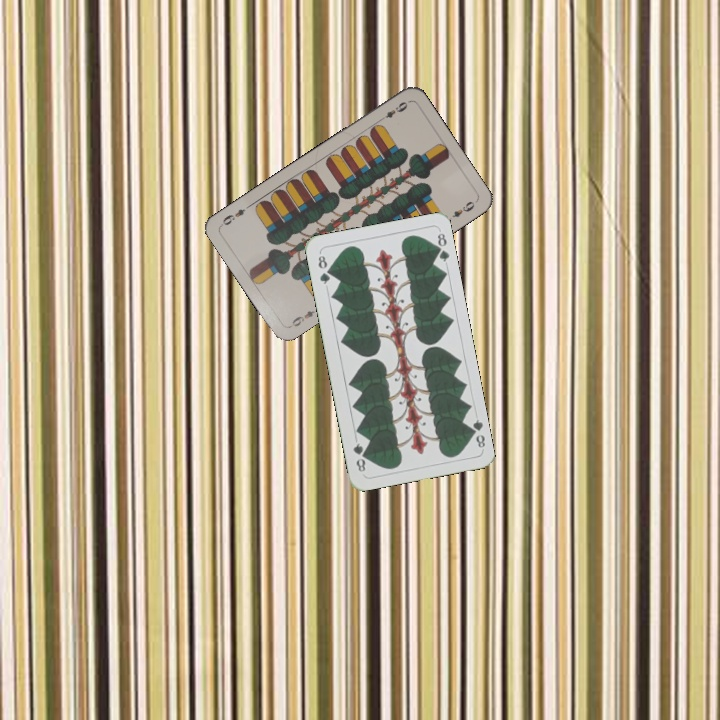E9: (285, 303, 322, 330), (375, 97, 410, 124)
G8: (465, 415, 488, 450), (314, 251, 333, 287)
